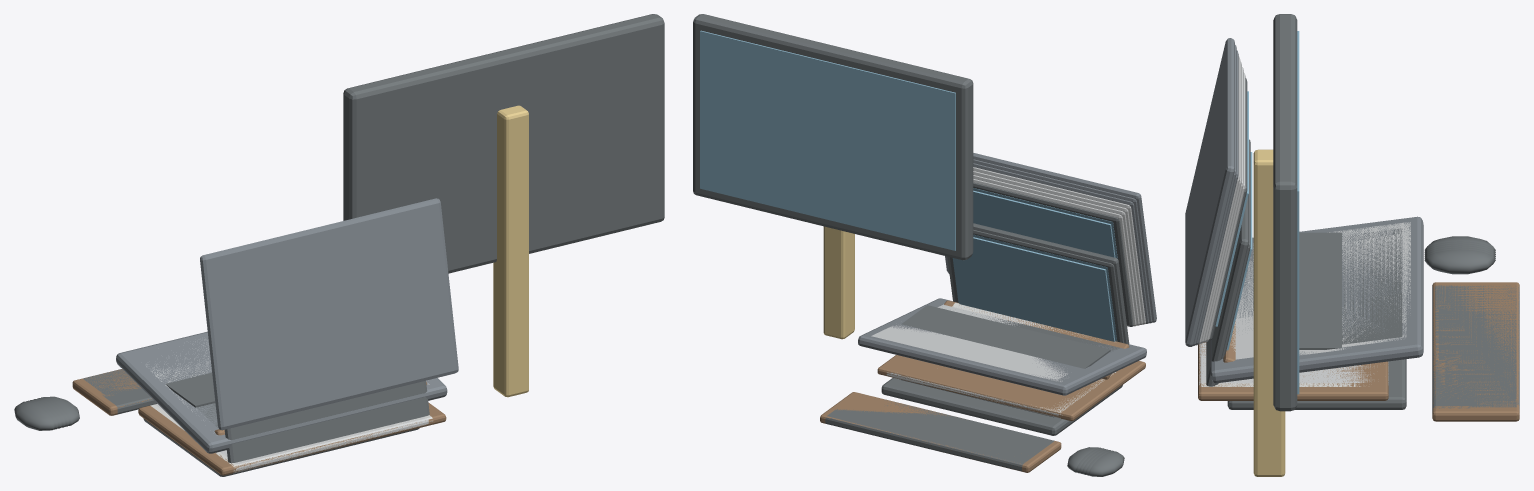
Rendered from Gear01.fbx.
3 renders of one model, left to right at view 1: azimuth 30°, elevation 25°; view 2: azimuth 150°, elevation 25°; view 3: azimuth 270°, elevation 25°, orthographic. The views are drawn at different scales.
Parts seen in each view (by area): view 1: Gear01_V10_Charcoal, Gear01_V10_Graphite, Gear01_V10_Brass, Gear01_V8_Charcoal, Gear01_V2_Charcoal, Gear01_V10_Walnut, Gear01_V7_Charcoal, Gear01_V3_BrushedSteel, Gear01_V8_Graphite, Gear01_V5_Charcoal, Gear01_V9_Graphite, Gear01_V4_BrushedSteel; view 2: Gear01_V10_ScreenUI, Gear01_V10_Charcoal, Gear01_V8_ScreenUI, Gear01_V1_ScreenUI, Gear01_V10_Graphite, Gear01_V8_Charcoal, Gear01_V2_Charcoal, Gear01_V4_BrushedSteel, Gear01_V3_ScreenUI, Gear01_V8_Walnut, Gear01_V9_Charcoal, Gear01_V9_ScreenUI (+15 smaller); view 3: Gear01_V10_Graphite, Gear01_V10_Charcoal, Gear01_V3_Charcoal, Gear01_V5_Charcoal, Gear01_V10_Brass, Gear01_V7_Charcoal, Gear01_V10_Walnut, Gear01_V2_Charcoal, Gear01_V8_Graphite, Gear01_V6_Charcoal, Gear01_V6_BrushedSteel, Gear01_V7_BrushedSteel (+13 smaller).
Boxes of the visible parts, x1,y1,x2,y2 form: Gear01_V10_Charcoal: [14, 14, 664, 430]; Gear01_V10_Graphite: [116, 198, 458, 453]; Gear01_V10_Brass: [493, 105, 528, 397]; Gear01_V8_Charcoal: [30, 50, 655, 428]; Gear01_V2_Charcoal: [143, 380, 429, 476]; Gear01_V10_Walnut: [72, 369, 446, 475]; Gear01_V7_Charcoal: [34, 369, 214, 427]; Gear01_V3_BrushedSteel: [157, 403, 428, 470]; Gear01_V8_Graphite: [143, 364, 436, 439]; Gear01_V5_Charcoal: [41, 384, 156, 425]; Gear01_V9_Graphite: [131, 357, 439, 440]; Gear01_V4_BrushedSteel: [155, 404, 429, 471]; Gear01_V10_ScreenUI: [700, 30, 955, 250]; Gear01_V10_Charcoal: [693, 14, 1124, 476]; Gear01_V8_ScreenUI: [705, 36, 949, 166]; Gear01_V1_ScreenUI: [953, 237, 1115, 341]; Gear01_V10_Graphite: [858, 153, 1156, 395]; Gear01_V8_Charcoal: [701, 28, 1110, 474]; Gear01_V2_Charcoal: [881, 223, 1129, 435]; Gear01_V4_BrushedSteel: [887, 179, 1136, 415]; Gear01_V3_ScreenUI: [973, 190, 1115, 257]; Gear01_V8_Walnut: [883, 356, 1138, 419]; Gear01_V9_Charcoal: [698, 26, 1113, 475]; Gear01_V9_ScreenUI: [702, 34, 952, 171]; Gear01_V10_Graphite: [1185, 38, 1423, 383]; Gear01_V10_Charcoal: [1273, 14, 1495, 411]; Gear01_V3_Charcoal: [1208, 78, 1402, 344]; Gear01_V5_Charcoal: [1299, 239, 1519, 406]; Gear01_V10_Brass: [1253, 149, 1285, 476]; Gear01_V7_Charcoal: [1299, 245, 1519, 409]; Gear01_V10_Walnut: [1198, 282, 1519, 421]; Gear01_V2_Charcoal: [1206, 194, 1406, 409]; Gear01_V8_Graphite: [1195, 50, 1413, 353]; Gear01_V6_Charcoal: [1299, 237, 1516, 406]; Gear01_V6_BrushedSteel: [1200, 61, 1408, 343]; Gear01_V7_BrushedSteel: [1198, 56, 1410, 355].
Bounding box in the file's own units: 91.98 × 52.13 × 42.11.
